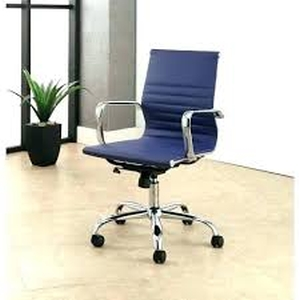chair: (82, 48, 224, 264)
